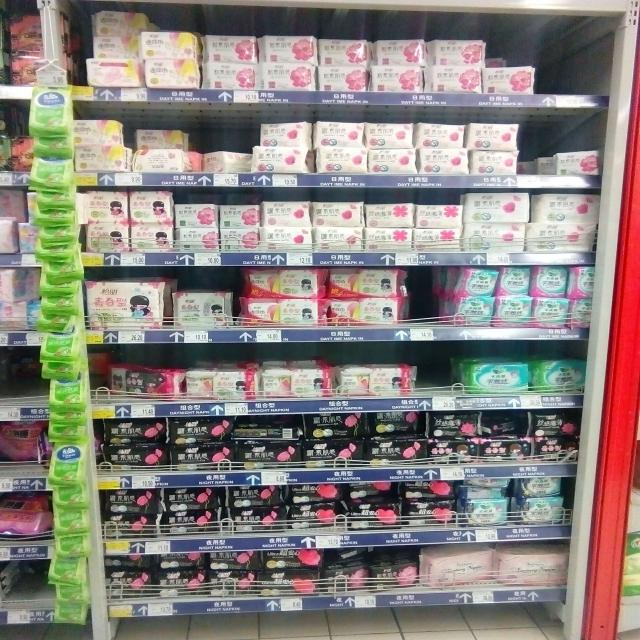void: (0, 347, 44, 420), (539, 27, 577, 110), (0, 560, 47, 627), (575, 36, 619, 107), (410, 271, 454, 339), (423, 346, 458, 412)
